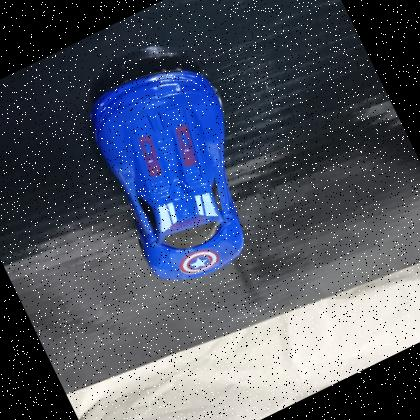Car: (90, 66, 243, 280)
